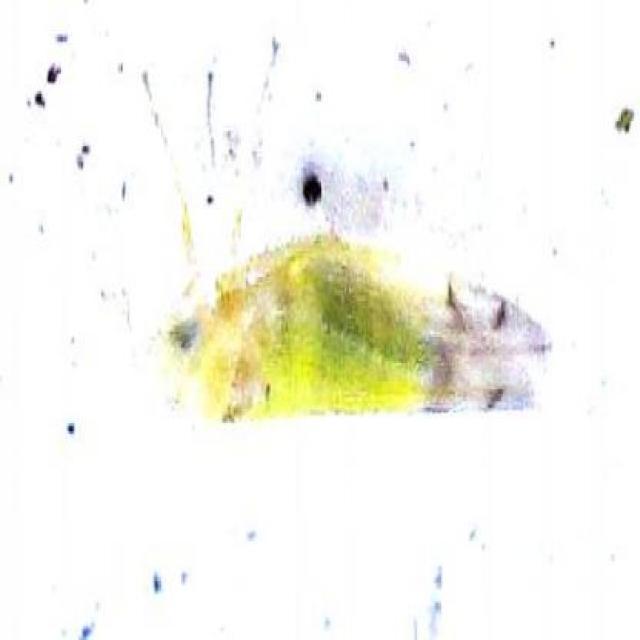green-leafhopper: (155, 195, 551, 428)
